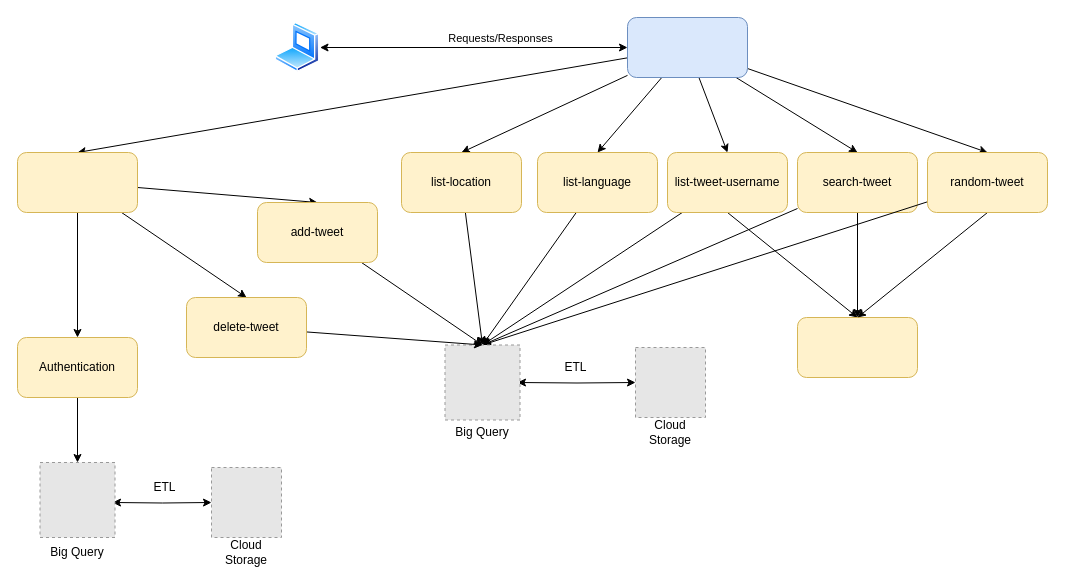
Some shapes in this 1065 by 585 pixel diagram are drawn without their labels. Grey dashed boxes stand in for pictures. The box of each missing label's shape, as (x1, y1, x2, y2) in pixels:
Admin: (16, 152, 138, 212)
API Gateway: (626, 16, 748, 78)
Limpeza de lista de tweets: (796, 316, 918, 378)
